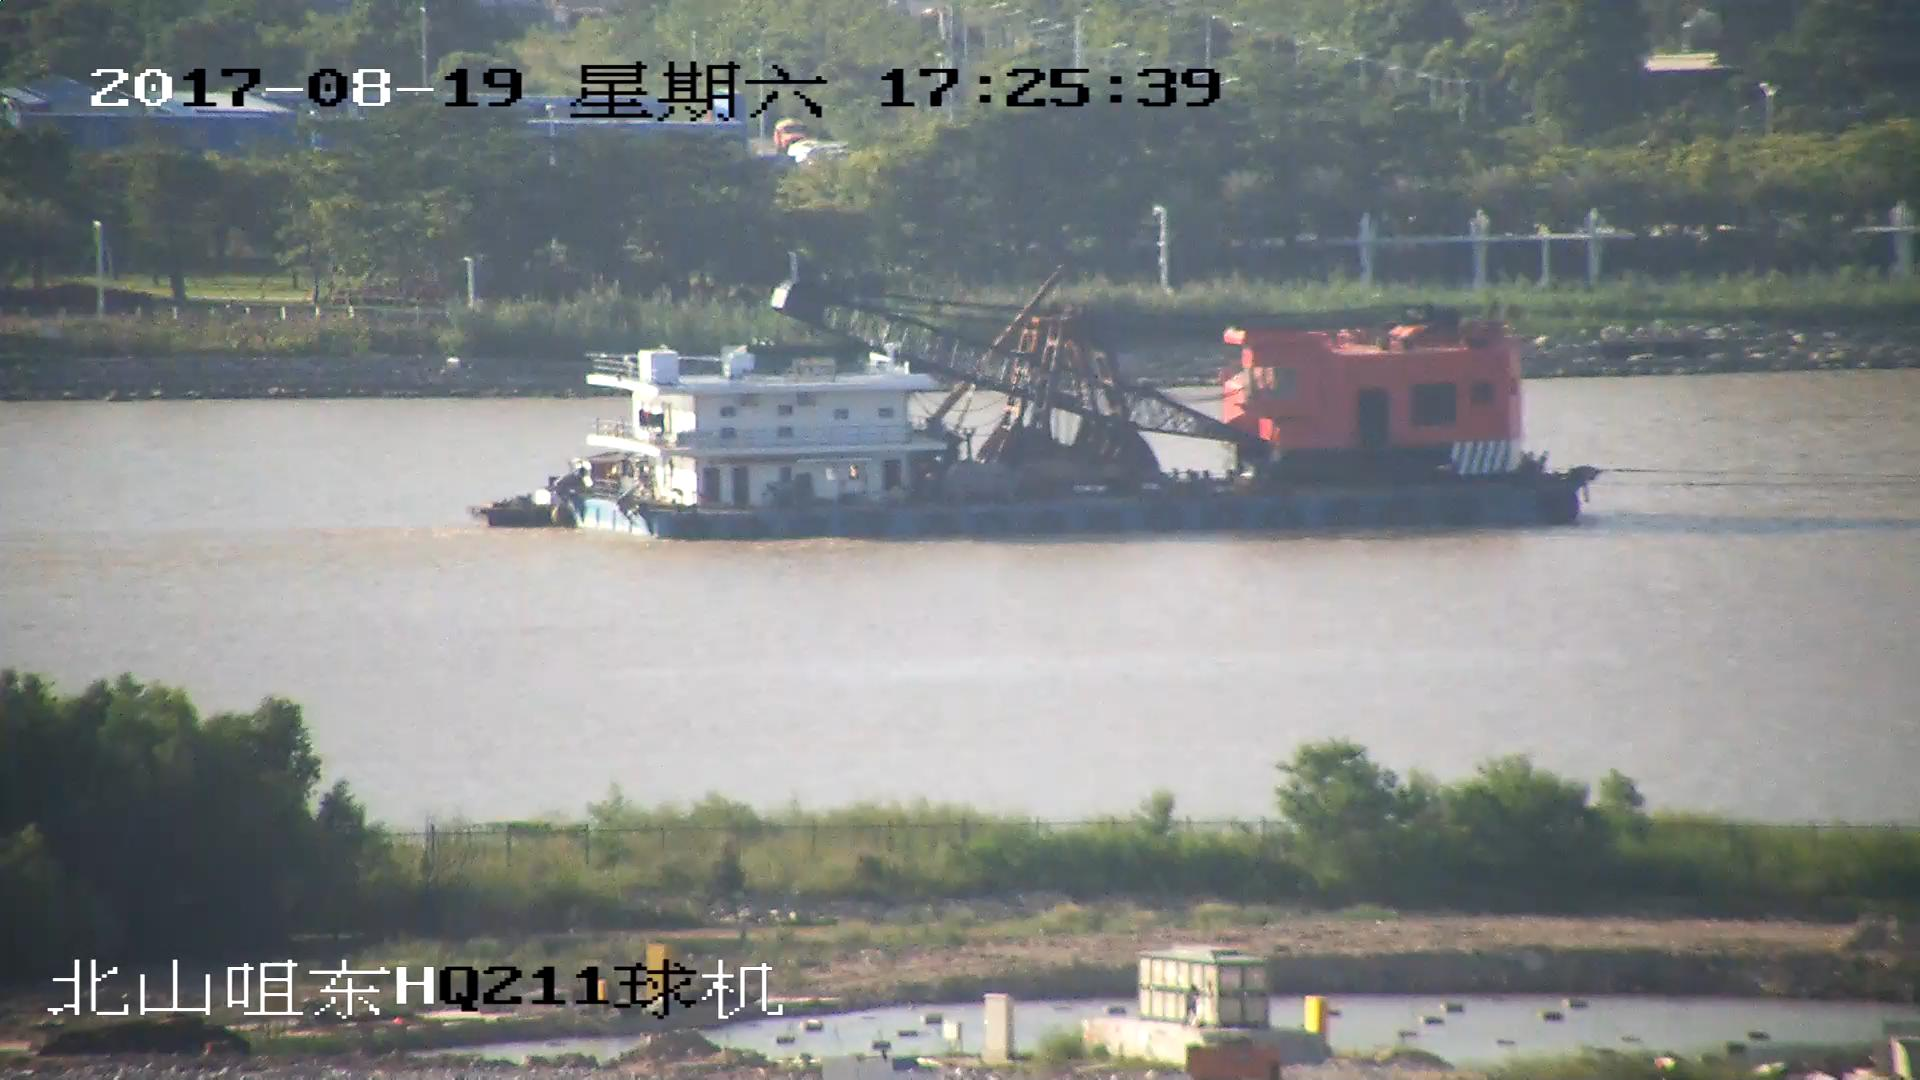fishing boat: (477, 247, 1598, 545)
